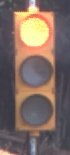Red: (9, 6, 61, 139)
